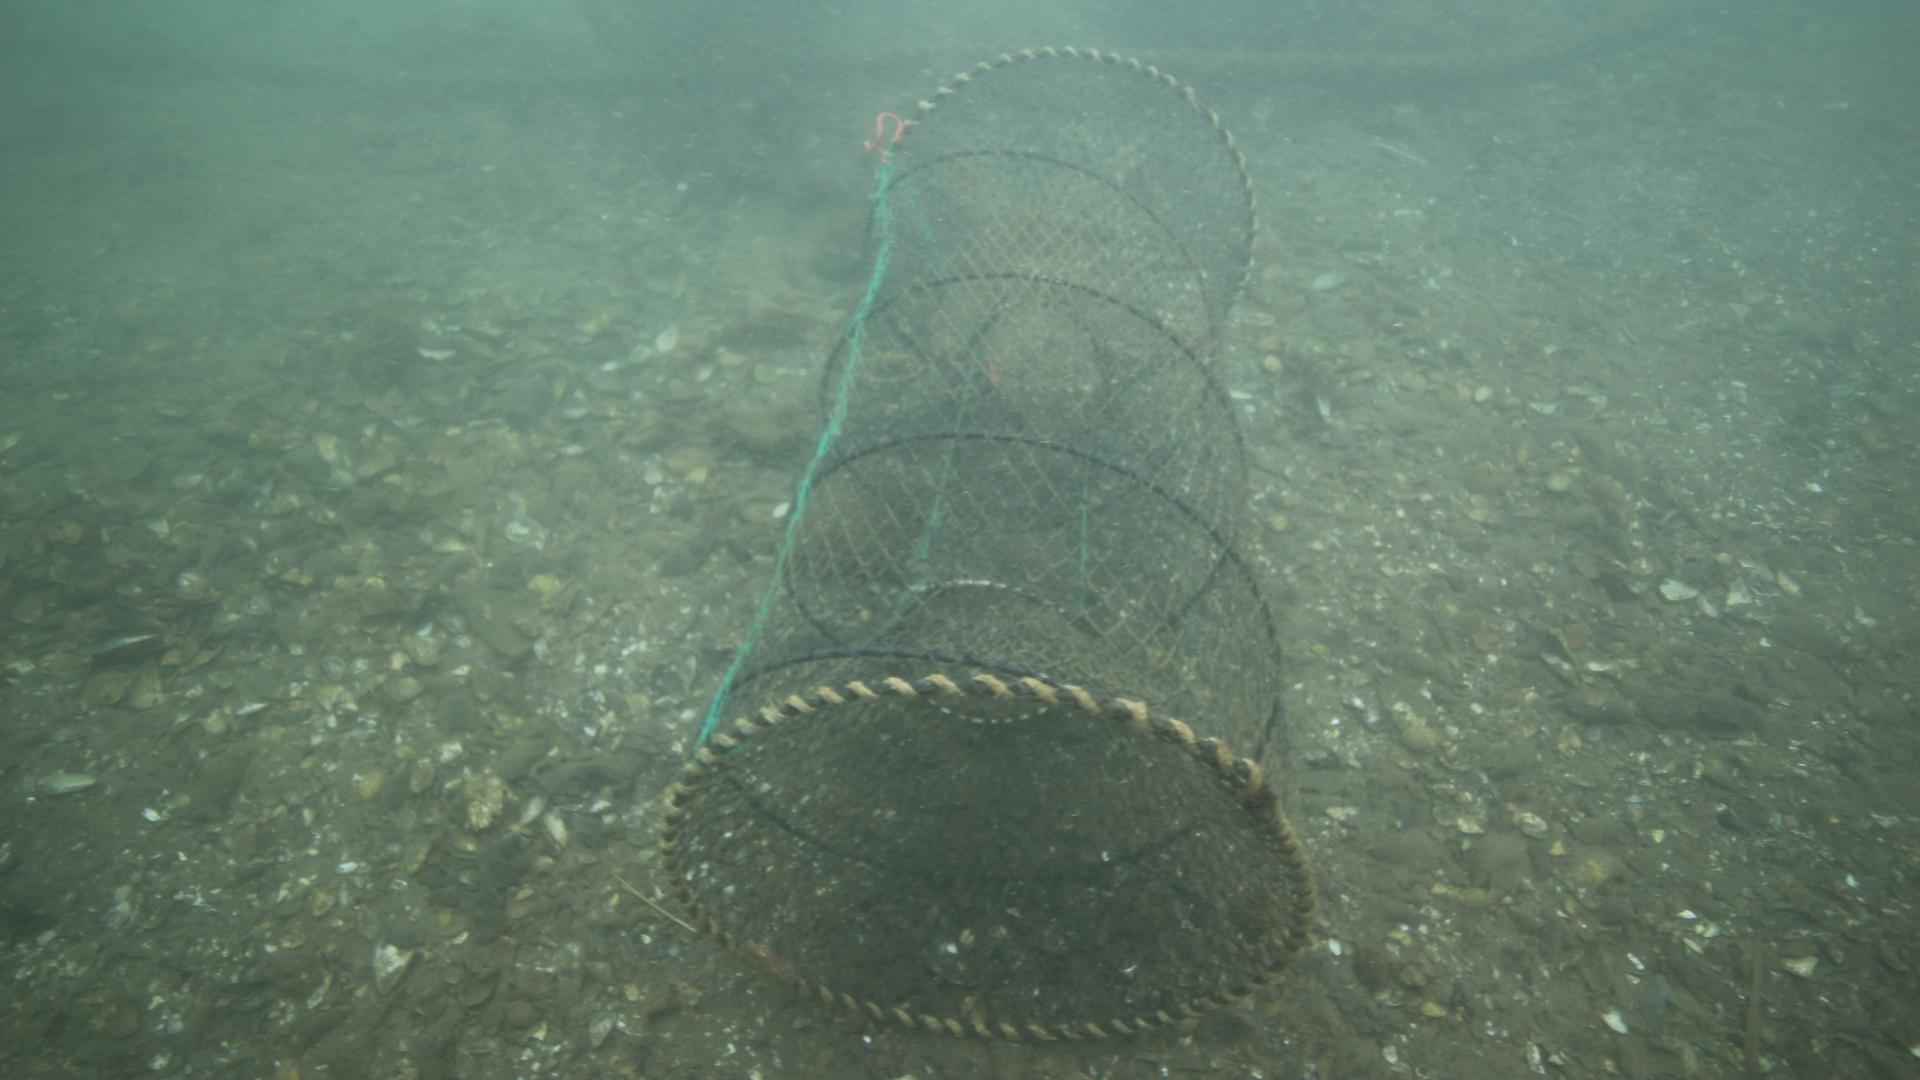spring fish trap: (659, 42, 1323, 1043)
